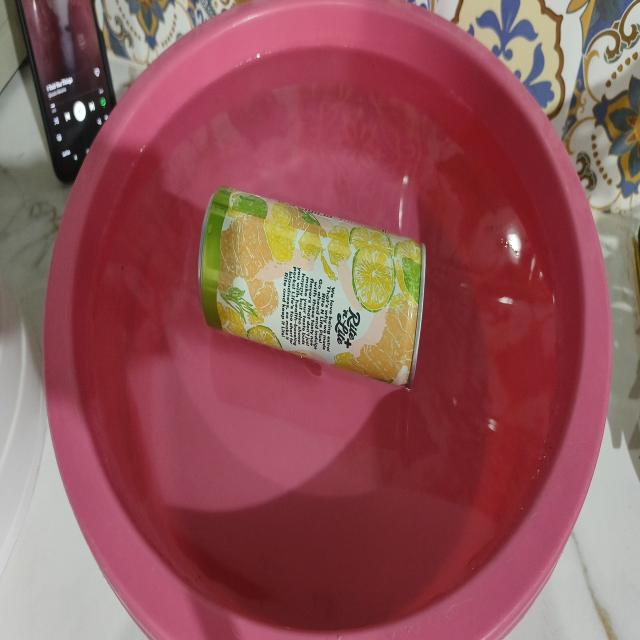Aluminum Can: (186, 158, 442, 408)
